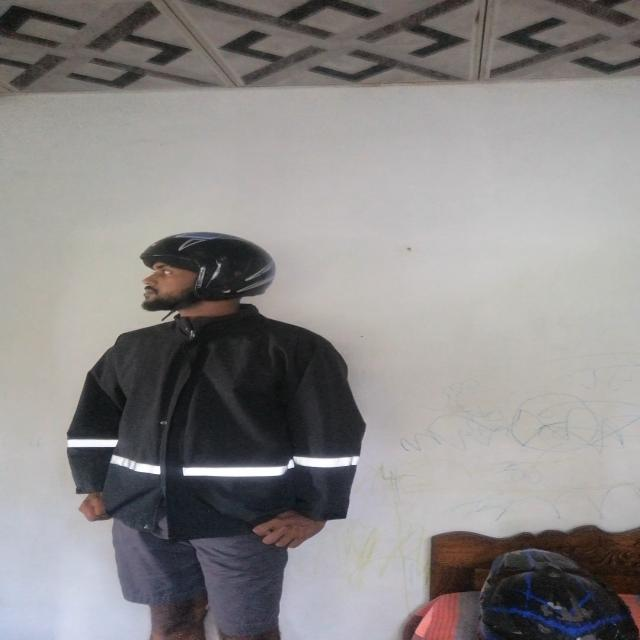Helmet_Wearer: (133, 218, 284, 332)
Jacket_Wearer: (77, 309, 353, 567)
Person: (78, 236, 360, 640)
